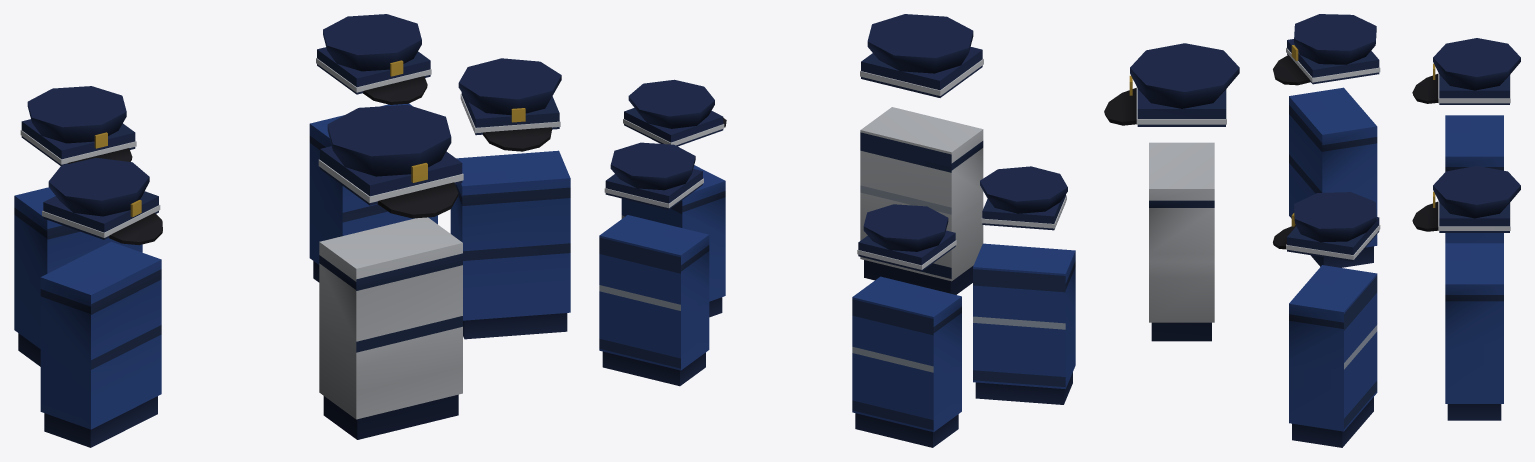
File: bubble-patrol-lod2.glb
3 views of the same model, side by side, from view 1: azimuth 30°, elevation 25°; view 2: azimuth 150°, elevation 25°; view 3: azimuth 270°, elevation 25° (orthographic). The views are drawn at different scales.
Visible parts, largest first — view 1: cap_torso, att3_torso, att2_torso, cap_hat, att0_hat, att3_hat, att2_hat, att1_hat, att1_torso, att0_torso; view 2: att0_torso, att1_torso, att3_torso, cap_torso, cap_hat, att2_hat, att1_hat, att0_hat, att3_hat, att2_torso; view 3: att2_torso, cap_torso, att0_torso, att3_torso, cap_hat, att3_hat, att0_hat, att1_hat, att2_hat, att1_torso.
Part boxes in pixels (bbox=[...]): cap_torso: bbox=[319, 217, 462, 439]; att3_torso: bbox=[40, 241, 161, 447]; att2_torso: bbox=[450, 150, 570, 339]; cap_hat: bbox=[318, 104, 463, 218]; att0_hat: bbox=[316, 14, 431, 104]; att3_hat: bbox=[42, 157, 162, 245]; att2_hat: bbox=[458, 58, 561, 151]; att1_hat: bbox=[20, 86, 136, 165]; att1_torso: bbox=[14, 187, 142, 366]; att0_torso: bbox=[309, 103, 437, 282]; att0_torso: bbox=[599, 215, 709, 386]; att1_torso: bbox=[852, 276, 961, 447]; att3_torso: bbox=[973, 243, 1075, 404]; cap_torso: bbox=[860, 107, 983, 294]; cap_hat: bbox=[860, 14, 983, 97]; att2_hat: bbox=[623, 79, 726, 146]; att1_hat: bbox=[857, 204, 956, 271]; att0_hat: bbox=[604, 142, 703, 209]; att3_hat: bbox=[980, 166, 1067, 230]; att2_torso: bbox=[621, 165, 725, 317]; att2_torso: bbox=[1289, 265, 1377, 447]; cap_torso: bbox=[1149, 142, 1214, 341]; att0_torso: bbox=[1445, 243, 1503, 420]; att3_torso: bbox=[1289, 87, 1377, 267]; cap_hat: bbox=[1104, 43, 1239, 126]; att3_hat: bbox=[1273, 14, 1380, 85]; att0_hat: bbox=[1412, 166, 1520, 232]; att1_hat: bbox=[1412, 38, 1520, 104]; att2_hat: bbox=[1273, 192, 1380, 261]; att1_torso: bbox=[1445, 115, 1503, 243].
Bounding box in the file's own units: 2.18 × 1.22 × 1.71.
